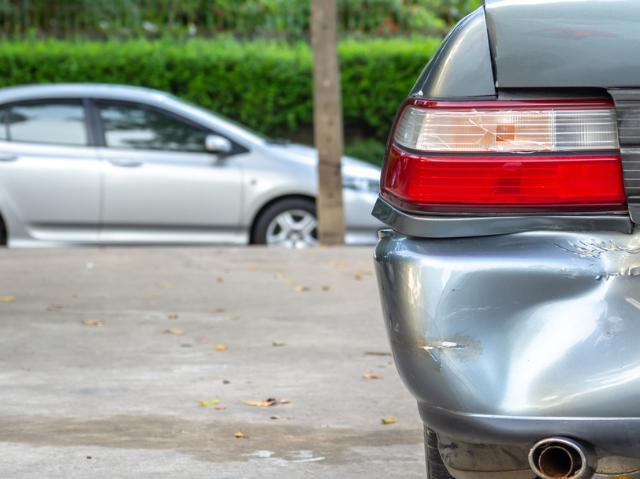Bumper: (388, 221, 637, 417)
